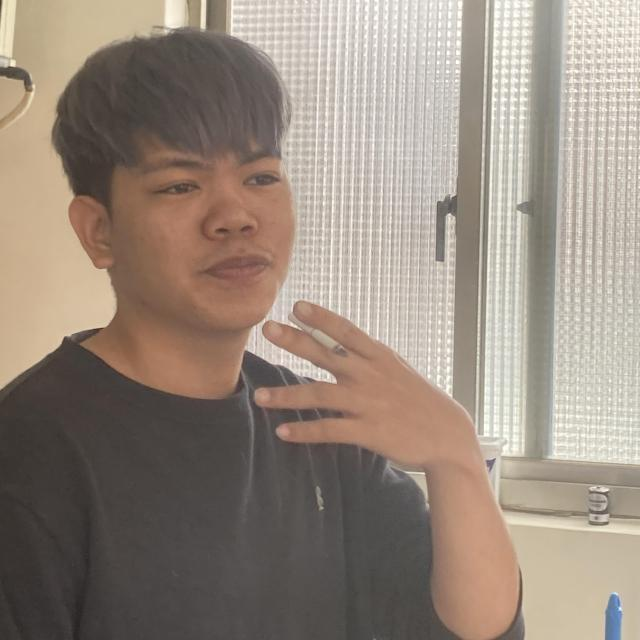cigarette: (284, 303, 366, 377)
